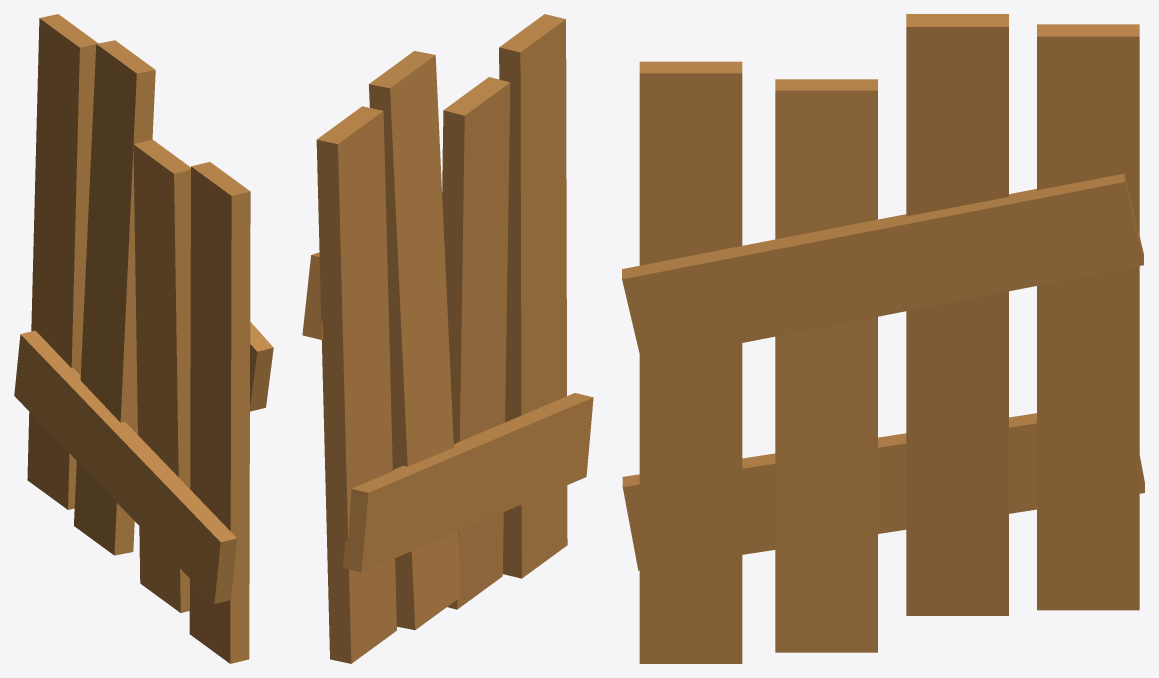
The model's file is забор2.fbx.
The picture shows the model from 3 angles, left to right: view 1: azimuth 30°, elevation 25°; view 2: azimuth 150°, elevation 25°; view 3: azimuth 270°, elevation 25°; orthographic projection. The views are drawn at different scales.
Visible parts, largest first — view 1: Cube.002; view 2: Cube.002; view 3: Cube.002.
Boxes of the visible parts, x1,y1,x2,y2 form: Cube.002: (14, 14, 273, 663); Cube.002: (302, 14, 593, 663); Cube.002: (622, 14, 1144, 663).
Size of the model in its own units: 13.7 by 126 by 92.86.
